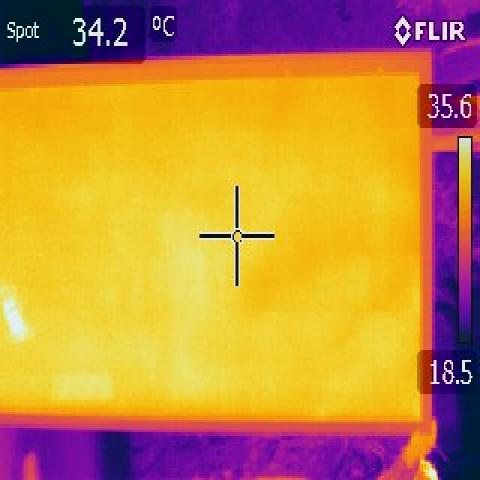fault: (0, 282, 31, 349)
